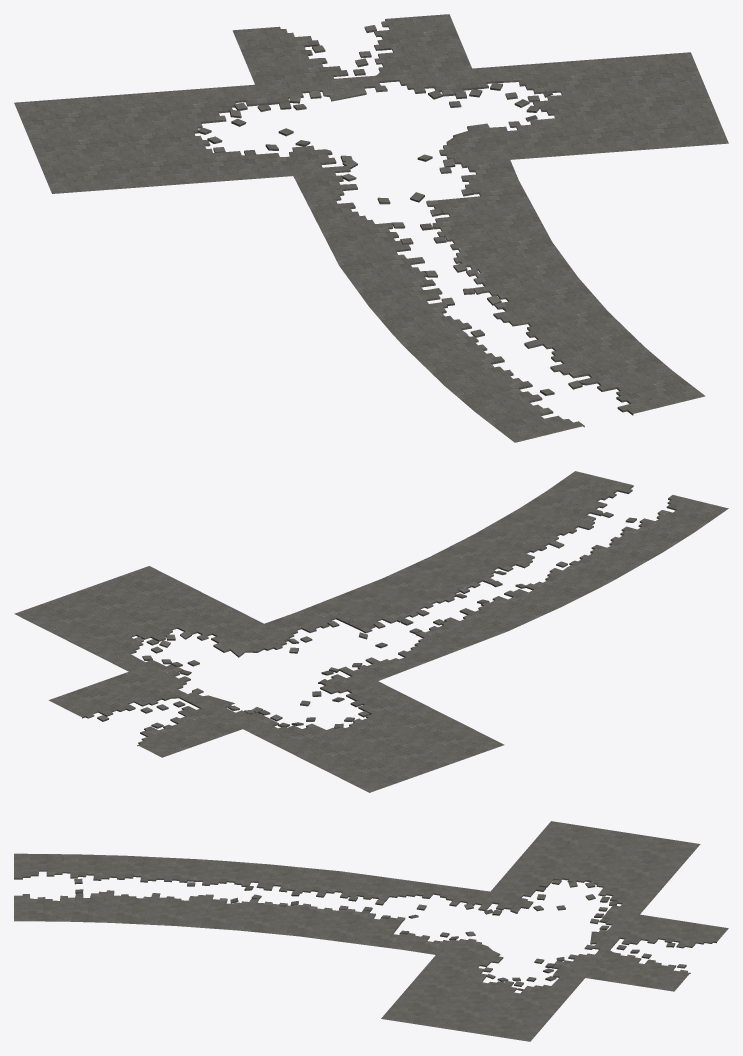
Rendered from Dungeon3_Ground_Tiles_01.FBX.
3 views of the same model, one above another, from view 1: azimuth 30°, elevation 25°; view 2: azimuth 150°, elevation 25°; view 3: azimuth 270°, elevation 25° (orthographic). The views are drawn at different scales.
Visible parts, largest first — view 1: Dungeon3_Ground_Tiles_01; view 2: Dungeon3_Ground_Tiles_01; view 3: Dungeon3_Ground_Tiles_01.
Part boxes in pixels (bbox=[...]): Dungeon3_Ground_Tiles_01: bbox=[14, 14, 728, 442]; Dungeon3_Ground_Tiles_01: bbox=[14, 471, 728, 792]; Dungeon3_Ground_Tiles_01: bbox=[14, 821, 728, 1041].
Bounding box in the file's own units: 41.47 × 0.5755 × 56.76.
